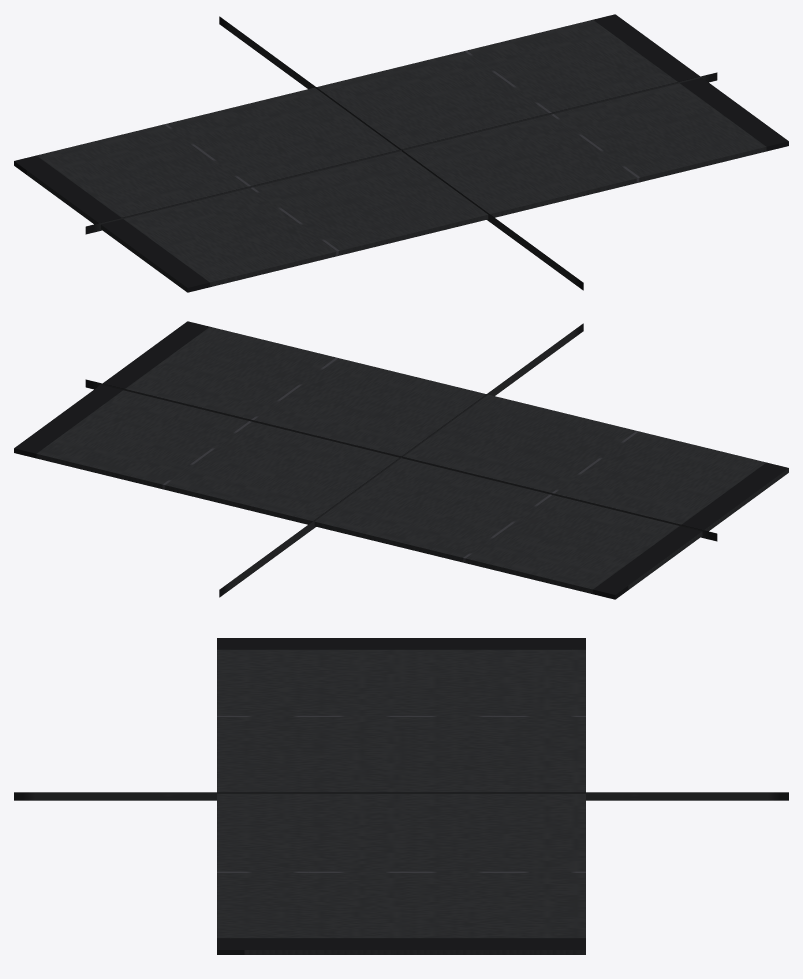
Rendered from mat_pitstall_4x2.dae.
The picture shows the model from 3 angles, top to bottom: view 1: azimuth 30°, elevation 25°; view 2: azimuth 150°, elevation 25°; view 3: azimuth 270°, elevation 25°; orthographic projection. The views are drawn at different scales.
Parts seen in each view (by area): view 1: mat_pitstall_4x2_a800, mat_pitstall_4x2_a50; view 2: mat_pitstall_4x2_a800, mat_pitstall_4x2_a50, mat_pitstall_4x2_a200; view 3: mat_pitstall_4x2_a800, mat_pitstall_4x2_a50.
Part boxes in pixels (bbox=[...]): mat_pitstall_4x2_a800: bbox=[14, 14, 788, 292]; mat_pitstall_4x2_a50: bbox=[85, 16, 717, 290]; mat_pitstall_4x2_a800: bbox=[14, 321, 788, 599]; mat_pitstall_4x2_a50: bbox=[85, 323, 717, 597]; mat_pitstall_4x2_a200: bbox=[72, 465, 776, 598]; mat_pitstall_4x2_a800: bbox=[217, 638, 585, 954]; mat_pitstall_4x2_a50: bbox=[14, 792, 788, 800].
Bounding box in the file's own units: 4.2 × 4.2 × 0.051.
2 materials, 1 textured.
